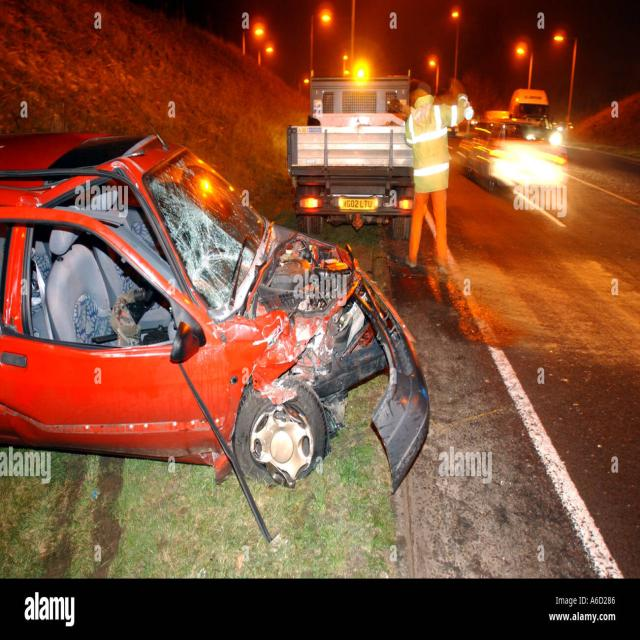Accident: (1, 121, 432, 488)
